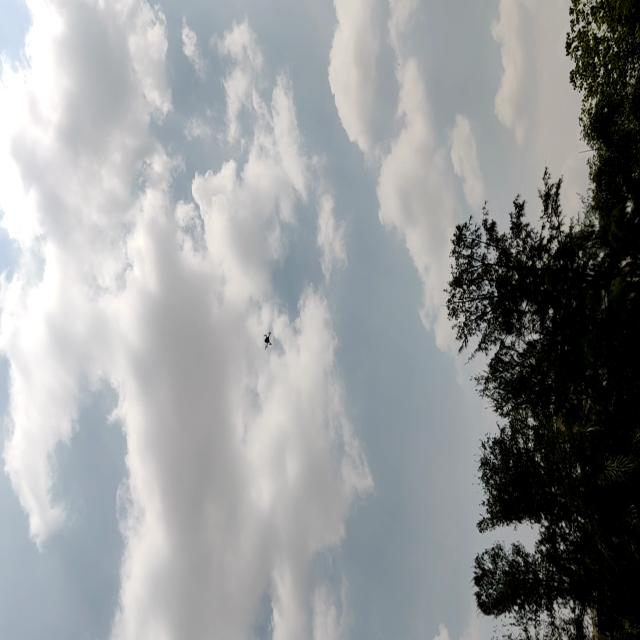drone: (258, 328, 276, 352)
